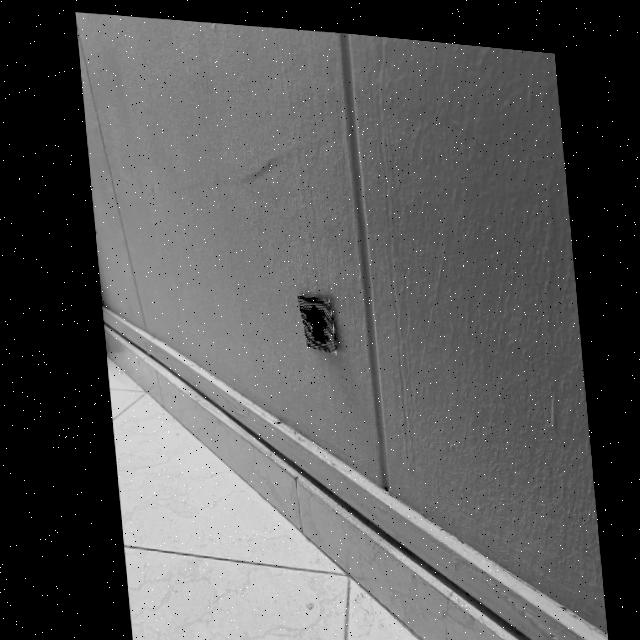UP: (300, 296, 324, 336)
